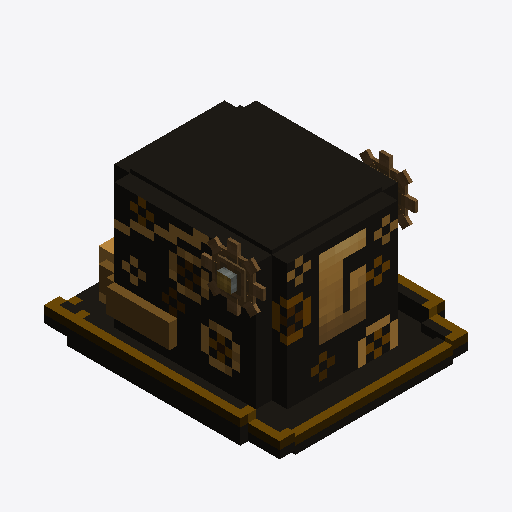
A Minecraft block model of 47 cuboids, rendered isometrically (azimuth 45°, elevation 35.3°) with the resource pack's own textures.
Parts seen in each view (by area): element 16, element 17, element 19, element 27, element 29, element 24, element 42, element 15, element 18, element 21, element 28, element 22 (+3 smaller).
Boxes of the visible parts, <box> form: element 16: <box>272,192,397,408</box>; element 17: <box>114,173,271,408</box>; element 19: <box>130,105,381,254</box>; element 27: <box>67,310,255,445</box>; element 29: <box>284,337,452,454</box>; element 24: <box>256,319,431,424</box>; element 42: <box>106,282,176,349</box>; element 15: <box>245,101,397,199</box>; element 18: <box>114,100,235,181</box>; element 21: <box>248,414,294,458</box>; element 28: <box>398,274,444,322</box>; element 22: <box>421,314,467,358</box>.
Size of the model in its own units: 13 by 9.88 by 15.